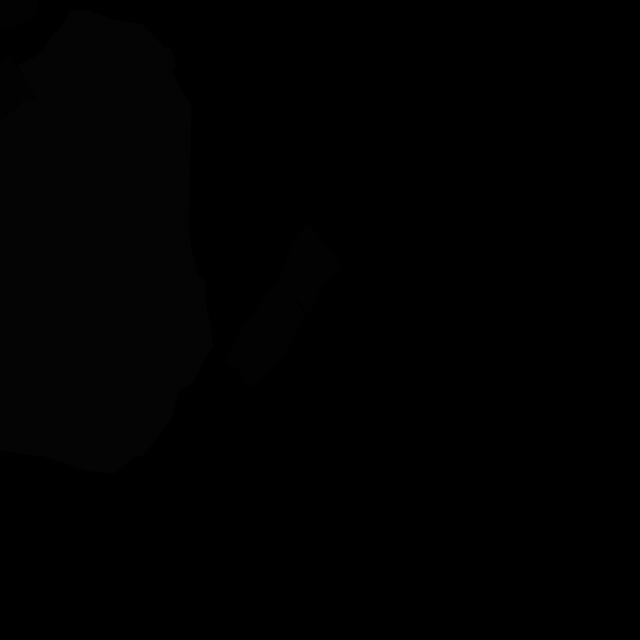cardboard: (227, 223, 340, 388), (0, 55, 36, 121), (0, 0, 38, 30)
soft_plastic: (0, 10, 213, 474)
